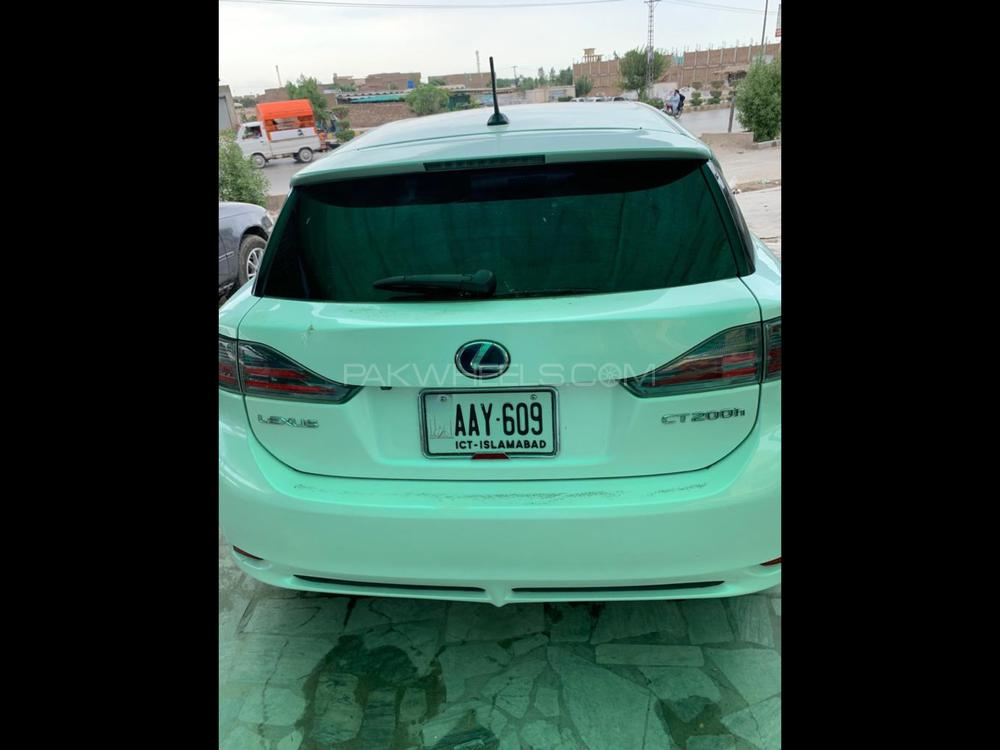license plate: (421, 390, 560, 455)
